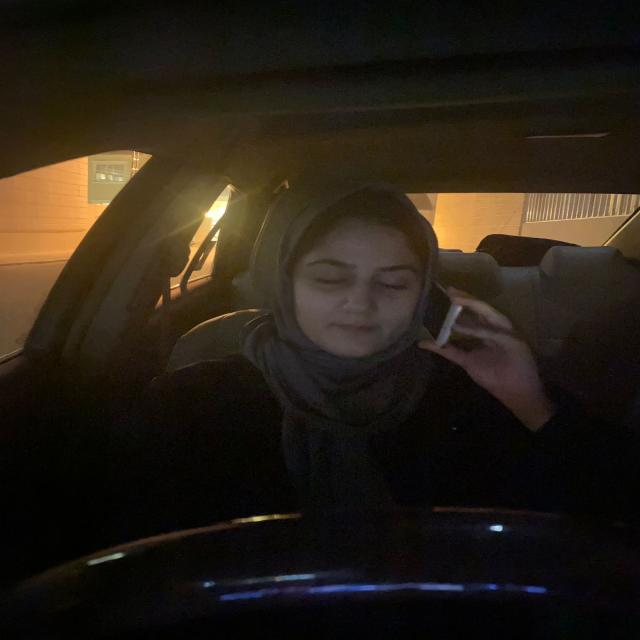phone: (412, 280, 468, 347)
